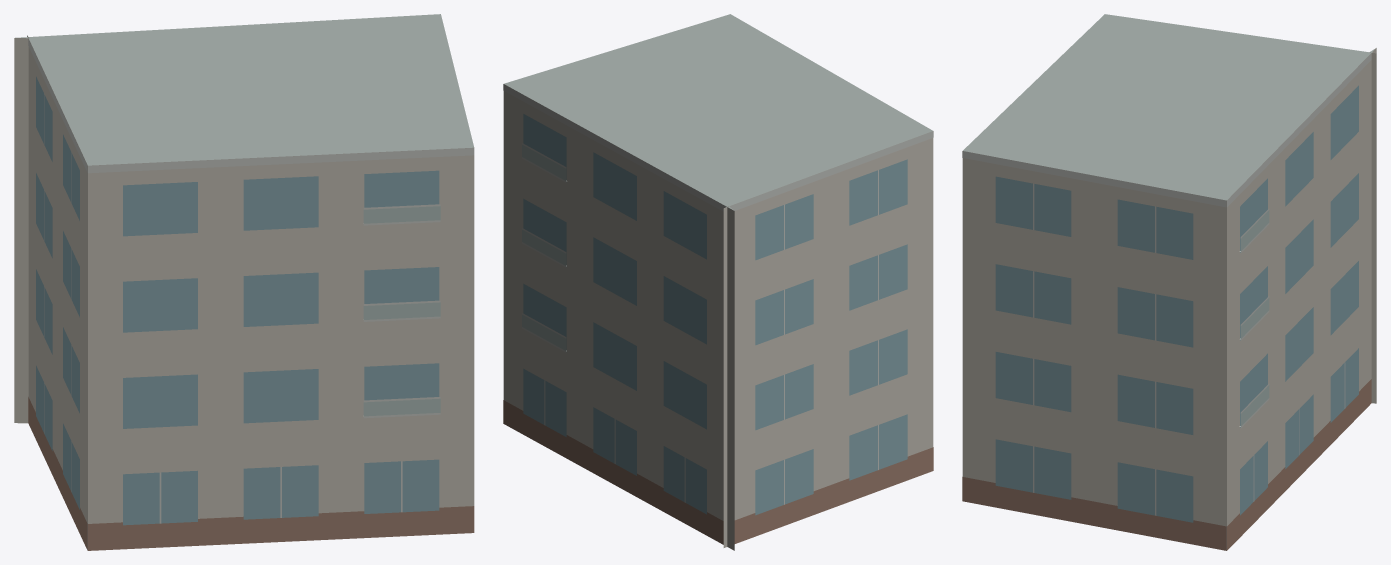
File: survey-upis-32931106.glb
3 renders of one model, left to right at view 1: azimuth 30°, elevation 25°; view 2: azimuth 150°, elevation 25°; view 3: azimuth 270°, elevation 25°, orthographic. The views are drawn at different scales.
Parts seen in each view (by area): view 1: survey-upis-32931106.tmp; view 2: survey-upis-32931106.tmp; view 3: survey-upis-32931106.tmp.
Boxes of the visible parts, left/top/right/bottom form: survey-upis-32931106.tmp: left=14, top=14, right=474, bottom=550; survey-upis-32931106.tmp: left=503, top=14, right=933, bottom=550; survey-upis-32931106.tmp: left=962, top=14, right=1376, bottom=550.
Size of the model in its own units: 13.94 by 12.2 by 13.07.
